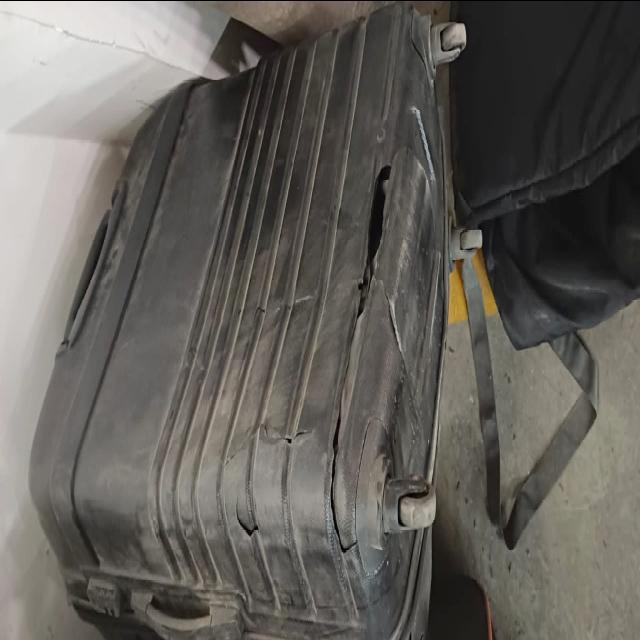Damage-bag: (325, 165, 390, 554), (226, 426, 267, 548), (388, 301, 400, 346), (348, 540, 358, 559)
